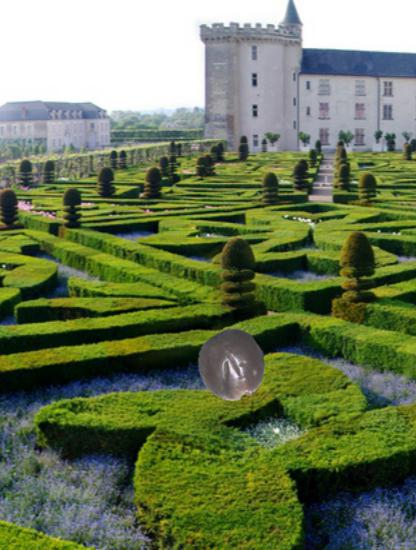Passion: (195, 329, 269, 403)
